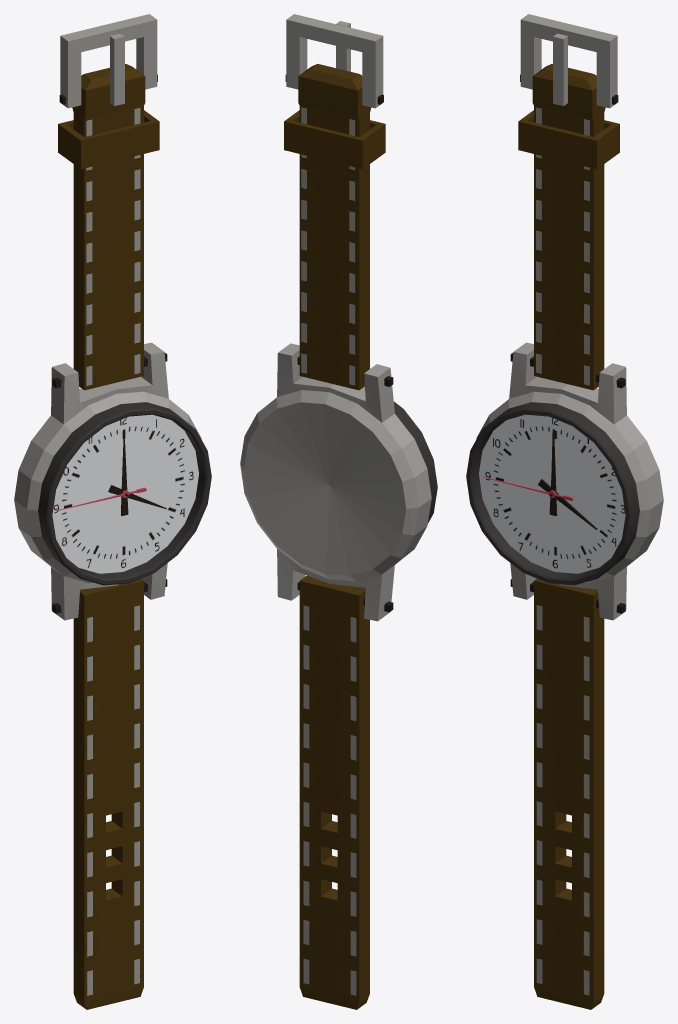
Rendered from burnt_watch.glb.
3 renders of one model, left to right at view 1: azimuth 30°, elevation 25°; view 2: azimuth 150°, elevation 25°; view 3: azimuth 330°, elevation 25°, orthographic.
Visible parts, largest first — view 1: Wirst_Watch, Strap, Strap2, a, b; view 2: Wirst_Watch, Strap, Strap2, a; view 3: Wirst_Watch, Strap, Strap2, a, b.
Part boxes in pixels (<box>): Wirst_Watch: <box>14,342,211,620</box>; Strap: <box>73,578,143,1009</box>; Strap2: <box>58,64,159,390</box>; a: <box>60,14,157,108</box>; b: <box>110,33,124,106</box>; Wirst_Watch: <box>240,343,437,621</box>; Strap: <box>299,575,369,1009</box>; Strap2: <box>284,64,385,390</box>; a: <box>286,14,383,108</box>; Wirst_Watch: <box>466,342,663,620</box>; Strap: <box>534,578,604,1009</box>; Strap2: <box>518,64,619,390</box>; a: <box>520,14,617,108</box>; b: <box>553,33,567,106</box>.
Size of the model in its own units: 1080 by 5608 by 340.
Materials: 1 (1 with a texture image).
